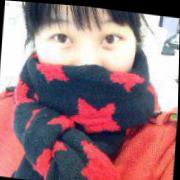WRONG: (30, 3, 140, 124)
